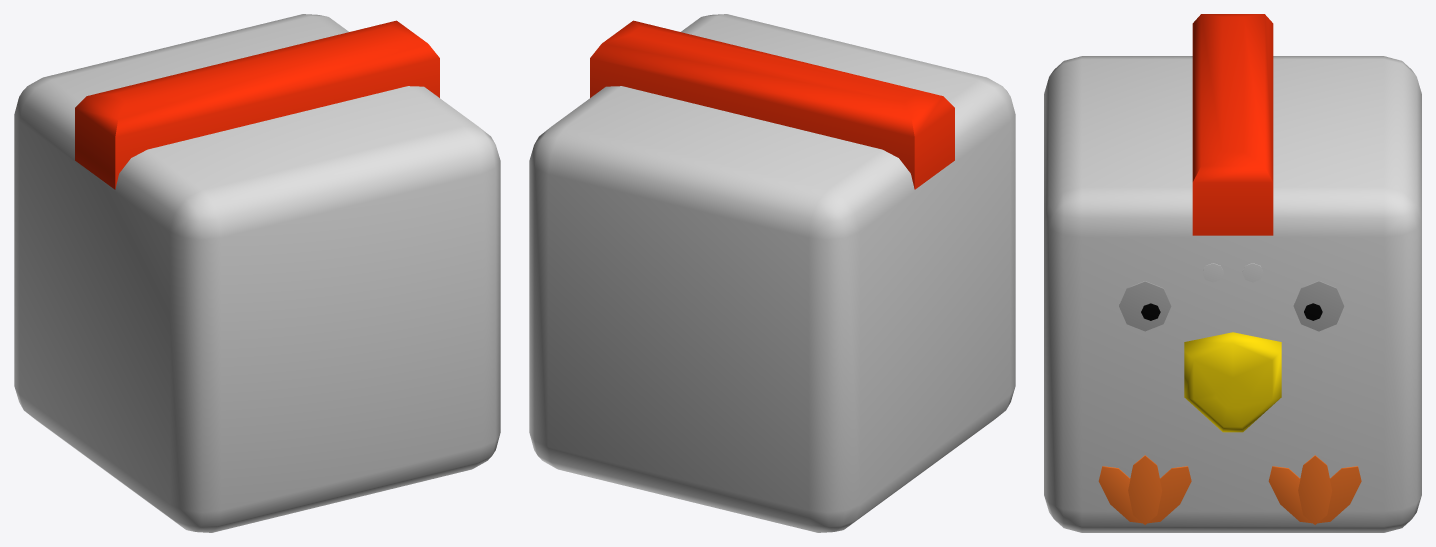
File: WhiteRedBeast.fbx
The picture shows the model from 3 angles, left to right: view 1: azimuth 30°, elevation 25°; view 2: azimuth 150°, elevation 25°; view 3: azimuth 270°, elevation 25°; orthographic projection.
Visible parts, largest first — view 1: Cube, Cube.001; view 2: Cube, Cube.001; view 3: Cube, Cube.001, Cylinder.003, Cylinder.008, Cylinder.013, Cylinder.006, Cylinder.007, Cylinder.010, Cylinder.011, Cylinder.009, Cylinder.012.
Boxes of the visible parts, left/top/right/bottom form: Cube: left=14, top=14, right=500, bottom=532; Cube.001: left=75, top=20, right=439, bottom=189; Cube: left=529, top=14, right=1015, bottom=532; Cube.001: left=590, top=20, right=954, bottom=189; Cube: left=1044, top=56, right=1421, bottom=532; Cube.001: left=1192, top=14, right=1273, bottom=235; Cylinder.003: left=1184, top=332, right=1281, bottom=432; Cylinder.008: left=1128, top=455, right=1162, bottom=524; Cylinder.013: left=1298, top=455, right=1332, bottom=524; Cylinder.006: left=1119, top=281, right=1171, bottom=331; Cylinder.007: left=1293, top=281, right=1344, bottom=331; Cylinder.010: left=1098, top=466, right=1142, bottom=523; Cylinder.011: left=1268, top=466, right=1312, bottom=523; Cylinder.009: left=1148, top=466, right=1191, bottom=523; Cylinder.012: left=1318, top=466, right=1361, bottom=523.
Size of the model in its own units: 218 by 223 by 200.
